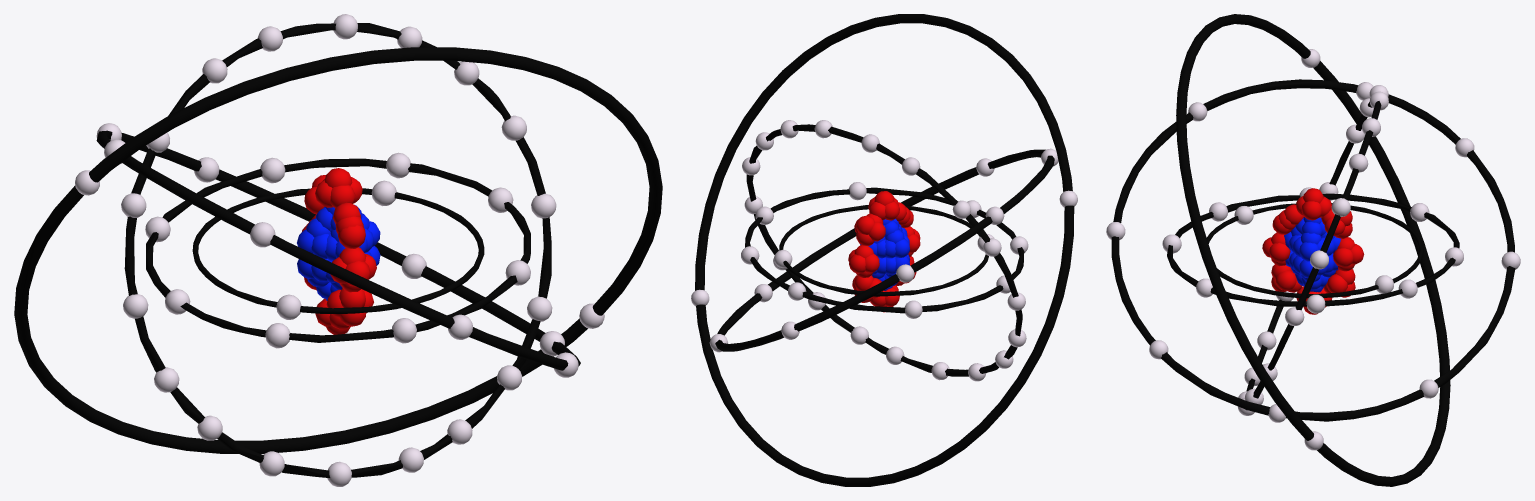
File: 38 Estroncio.fbx
The picture shows the model from 3 angles, left to right: view 1: azimuth 30°, elevation 25°; view 2: azimuth 150°, elevation 25°; view 3: azimuth 270°, elevation 25°; orthographic projection. The views are drawn at different scales.
Visible parts, largest first — view 1: Orbita.005, Orbita.004, Sphere.011, Orbita.003, Orbita.002, Orbita.001; view 2: Orbita.005, Orbita.004, Sphere.011, Orbita.003, Orbita.002, Orbita.001; view 3: Orbita.005, Orbita.004, Sphere.011, Orbita.002, Orbita.003, Orbita.001.
Part boxes in pixels (<box>): Orbita.005: <box>14,47,662,453</box>; Orbita.004: <box>96,130,580,370</box>; Sphere.011: <box>297,168,380,334</box>; Orbita.003: <box>124,23,551,477</box>; Orbita.002: <box>146,158,530,342</box>; Orbita.001: <box>192,188,484,313</box>; Orbita.005: <box>695,14,1074,486</box>; Orbita.004: <box>715,149,1054,351</box>; Sphere.011: <box>848,191,920,312</box>; Orbita.003: <box>746,124,1022,376</box>; Orbita.002: <box>745,187,1024,313</box>; Orbita.001: <box>779,205,988,296</box>; Orbita.005: <box>1176,14,1450,486</box>; Orbita.004: <box>1111,79,1515,421</box>; Sphere.011: <box>1262,188,1364,314</box>; Orbita.002: <box>1167,193,1459,306</box>; Orbita.003: <box>1246,101,1381,410</box>; Orbita.001: <box>1207,203,1423,298</box>.
Size of the model in its own units: 14.54 by 17.18 by 15.48.
